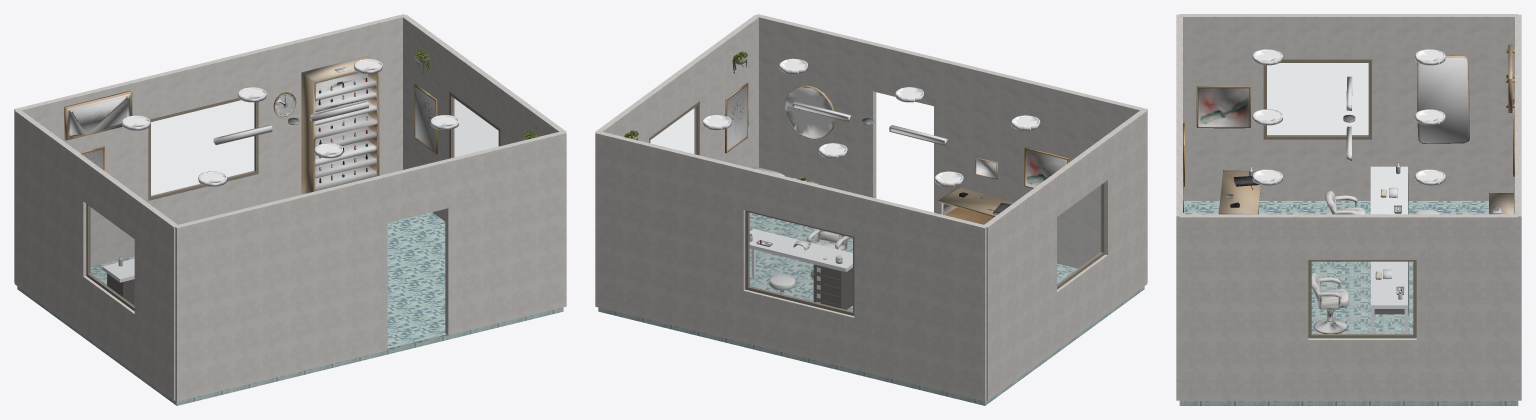
Rendered from scene_named.glb.
3 views of the same model, side by side, from view 1: azimuth 30°, elevation 25°; view 2: azimuth 150°, elevation 25°; view 3: azimuth 270°, elevation 25° (orthographic). The views are drawn at different scales.
Parts seen in each view (by area): view 1: south_wall_exterior_nail_salon/south_wall_exterior_nail_salo, north_wall_nail_salon/north_wall_nail_salon/geometry_0, west_wall_exterior_nail_salon/west_wall_exterior_nail_salon/, floor_nail_salon, east_wall_nail_salon/east_wall_nail_salon/geometry_0, display_shelf_0, window_1_nail_salon/window_1_nail_salon/glass, window_3_nail_salon/window_3_nail_salon/glass, wall_sign_0, window_2_nail_salon/window_2_nail_salon/glass, window_1_nail_salon/window_1_nail_salon/frame, print_2 (+6 smaller); view 2: north_wall_exterior_nail_salon/north_wall_exterior_nail_salo, south_wall_nail_salon/south_wall_nail_salon/geometry_0, west_wall_exterior_nail_salon/west_wall_exterior_nail_salon/, east_wall_nail_salon/east_wall_nail_salon/geometry_0, window_1_nail_salon/window_1_nail_salon/glass, floor_nail_salon, window_3_nail_salon/window_3_nail_salon/glass, manicure_table_1/E_body_1, mirror_0, reception_counter_0, south_wall_exterior_nail_salon/south_wall_exterior_nail_salo, window_1_nail_salon/window_1_nail_salon/frame (+8 smaller); view 3: east_wall_exterior_nail_salon/east_wall_exterior_nail_salon/, west_wall_nail_salon/west_wall_nail_salon/geometry_0, floor_nail_salon, window_2_nail_salon/window_2_nail_salon/glass, window_3_nail_salon/window_3_nail_salon/glass, mirror_1, print_4, manicure_table_0/E_body_1, manicure_table_1/E_body_1, north_wall_exterior_nail_salon/north_wall_exterior_nail_salo, south_wall_exterior_nail_salon/south_wall_exterior_nail_salo, reception_counter_0 (+16 smaller).
Boxes of the visible parts, x1,y1,x2,y2 form: south_wall_exterior_nail_salon/south_wall_exterior_nail_salo: (175,132,566,401); north_wall_nail_salon/north_wall_nail_salon/geometry_0: (20,16,402,266); west_wall_exterior_nail_salon/west_wall_exterior_nail_salon/: (14,110,176,400); floor_nail_salon: (17,212,563,405); east_wall_nail_salon/east_wall_nail_salon/geometry_0: (401,15,563,221); display_shelf_0: (301,56,379,194); window_1_nail_salon/window_1_nail_salon/glass: (151,100,254,195); window_3_nail_salon/window_3_nail_salon/glass: (89,206,134,305); wall_sign_0: (64,91,132,140); window_2_nail_salon/window_2_nail_salon/glass: (452,98,498,157); window_1_nail_salon/window_1_nail_salon/frame: (148,98,258,200); print_2: (414,84,437,154); north_wall_exterior_nail_salon/north_wall_exterior_nail_salo: (595,132,986,401); south_wall_nail_salon/south_wall_nail_salon/geometry_0: (759,16,1141,268); west_wall_exterior_nail_salon/west_wall_exterior_nail_salon/: (985,110,1147,400); east_wall_nail_salon/east_wall_nail_salon/geometry_0: (598,15,760,167); window_1_nail_salon/window_1_nail_salon/glass: (749,213,852,311); floor_nail_salon: (598,212,1144,405); window_3_nail_salon/window_3_nail_salon/glass: (1057,185,1101,284); manicure_table_1/E_body_1: (749,228,852,271); mirror_0: (784,85,835,139); reception_counter_0: (938,187,1014,224); south_wall_exterior_nail_salon/south_wall_exterior_nail_salo: (757,14,1147,282); window_1_nail_salon/window_1_nail_salon/frame: (745,210,854,315); east_wall_exterior_nail_salon/east_wall_exterior_nail_salon/: (1179,215,1518,401); west_wall_nail_salon/west_wall_nail_salon/geometry_0: (1179,15,1518,200); floor_nail_salon: (1179,201,1518,405); window_2_nail_salon/window_2_nail_salon/glass: (1312,262,1412,334); window_3_nail_salon/window_3_nail_salon/glass: (1267,63,1368,135); mirror_1: (1417,55,1469,143); print_4: (1196,86,1250,128); manicure_table_0/E_body_1: (1370,166,1407,214); manicure_table_1/E_body_1: (1370,261,1407,308); north_wall_exterior_nail_salon/north_wall_exterior_nail_salo: (1518,14,1521,400); south_wall_exterior_nail_salon/south_wall_exterior_nail_salo: (1176,14,1179,400); reception_counter_0: (1218,170,1260,214).
Bounding box in the file's own units: 7.1 × 3.1 × 5.1.
Materials: 52 (47 with a texture image).
